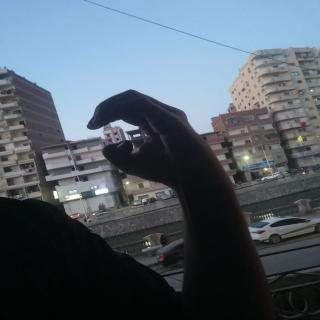JEEM: (84, 84, 224, 187)
